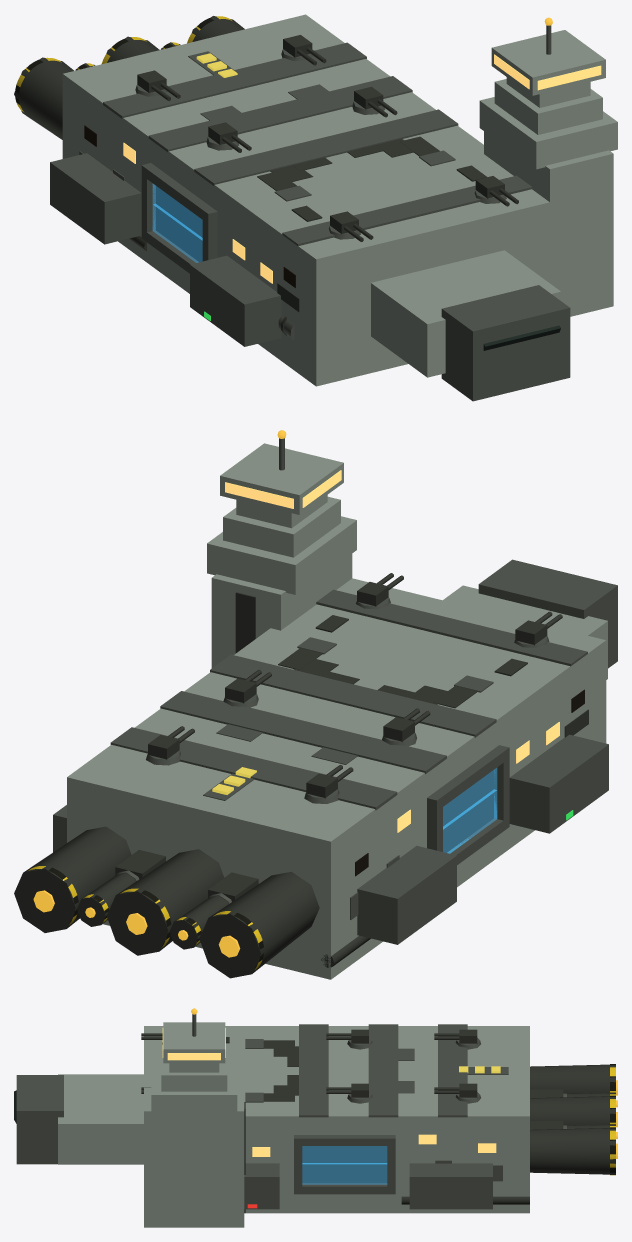
Rendered from capital-m(2).glb.
3 views of the same model, one above another, from view 1: azimuth 30°, elevation 25°; view 2: azimuth 150°, elevation 25°; view 3: azimuth 270°, elevation 25° (orthographic). The views are drawn at different scales.
Parts seen in each view (by area): view 1: hullMain, hullNoseTip, outriggerPylon, hullNose, sidePod1L, sidePod0L, hullPanelLine0, controlTerrace0, hullPanelLine2, hullPanelLine1, engineHousing (×3), observationGallery (+12 smaller); view 2: hullMain, engineHousing (×5), sidePod1L, sidePod0L, hullPanelLine1, hullPanelLine0, hullNoseTip, controlTerrace0, outriggerPylon, hullPanelLine2, observationGallery, accentStripe (+14 smaller); view 3: hullMain, outriggerPylon, engineHousing (×3), hullNose, hullNoseTip, sidePod1R, dockingChamberStarboard, hullPanelLine1, hullPanelLine0, controlTerrace0, hullPanelLine2, observationGallery (+11 smaller).
Boxes of the visible parts, x1,y1,x2,y2 form: hullMain: (62, 14, 559, 386); hullNoseTip: (441, 285, 570, 401); outriggerPylon: (484, 131, 613, 316); hullNose: (371, 250, 560, 377); sidePod1L: (50, 153, 141, 244); sidePod0L: (190, 255, 281, 346); hullPanelLine0: (194, 109, 458, 185); controlTerrace0: (479, 97, 617, 169); hullPanelLine2: (103, 42, 366, 119); hullPanelLine1: (148, 76, 412, 152); engineHousing (×3): (14, 16, 244, 139); observationGallery: (491, 30, 605, 95); hullMain: (67, 578, 606, 979); engineHousing (×5): (14, 826, 319, 978); sidePod1L: (357, 846, 456, 944); sidePod0L: (509, 734, 608, 833); hullPanelLine1: (160, 691, 446, 773); hullPanelLine0: (210, 654, 496, 737); hullNoseTip: (478, 559, 617, 668); controlTerrace0: (207, 516, 356, 594); outriggerPylon: (211, 554, 352, 668); hullPanelLine2: (110, 727, 397, 810); observationGallery: (220, 443, 343, 514); accentStripe: (316, 589, 587, 666); hullMain: (144, 1026, 529, 1213); outriggerPylon: (144, 1087, 244, 1227); engineHousing (×3): (530, 1064, 615, 1174); hullNose: (58, 1074, 143, 1164); hullNoseTip: (16, 1075, 63, 1164); sidePod1R: (409, 1163, 492, 1209); dockingChamberStarboard: (302, 1146, 387, 1183); hullPanelLine1: (368, 1024, 398, 1117); hullPanelLine0: (299, 1024, 328, 1117); controlTerrace0: (151, 1064, 237, 1115); hullPanelLine2: (438, 1024, 467, 1117); observationGallery: (163, 1022, 225, 1063).
Size of the model in its own units: 5.1 by 4.37 by 10.18.
